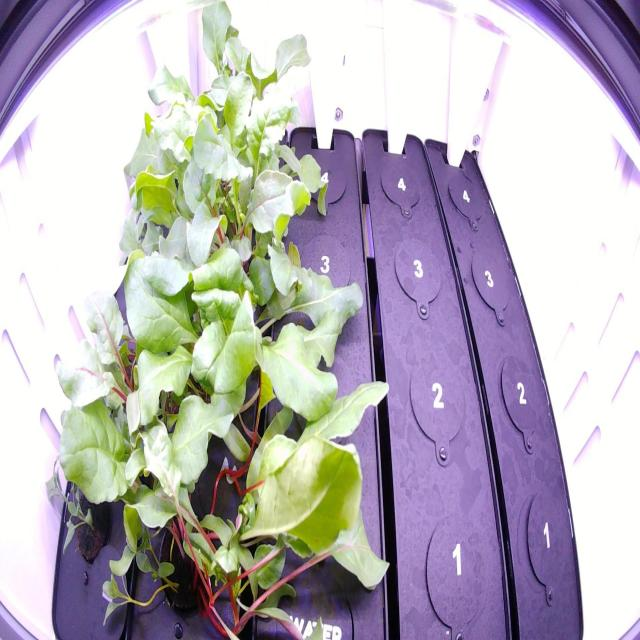empty_pod: (420, 507, 496, 633), (404, 347, 470, 457), (519, 480, 575, 604), (462, 235, 518, 332), (494, 348, 546, 452), (388, 228, 448, 314), (288, 226, 353, 304), (439, 162, 494, 232), (294, 144, 350, 209), (375, 152, 424, 216)
